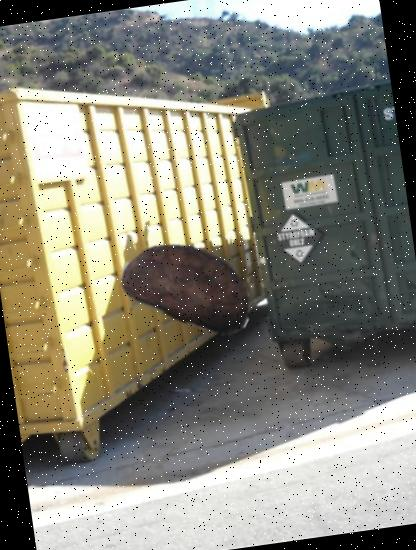Chestnut: (114, 209, 266, 361)
